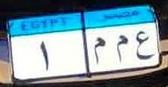1: (40, 40, 49, 71)
ain: (135, 27, 151, 62)
meem: (114, 33, 129, 63), (92, 37, 106, 65)
